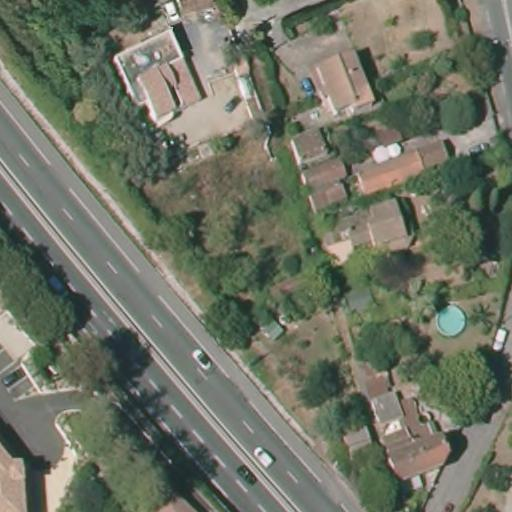pool: (425, 296, 468, 337)
